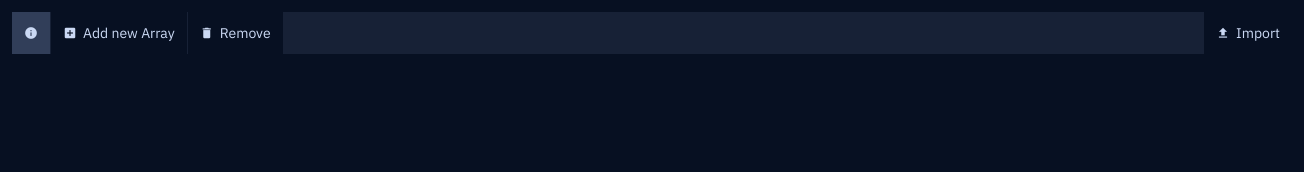
it: Arrays.vue › arrays should be rendered in the dom
Click the button with class "add-new-array" at [119, 33], box [51, 12, 187, 54]
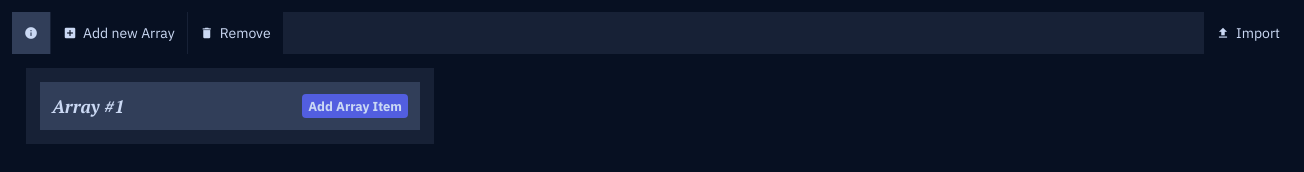
Expected: the element with class "arrays-display" is shown, [26, 68, 434, 144]
